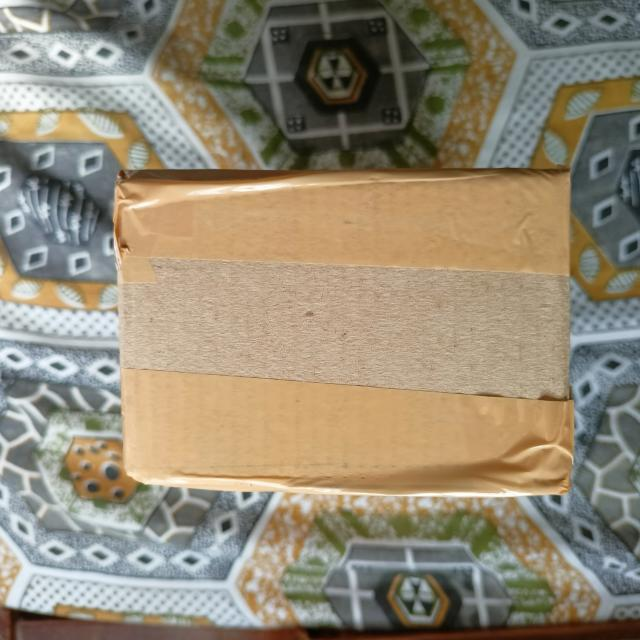box: (120, 167, 574, 494)
